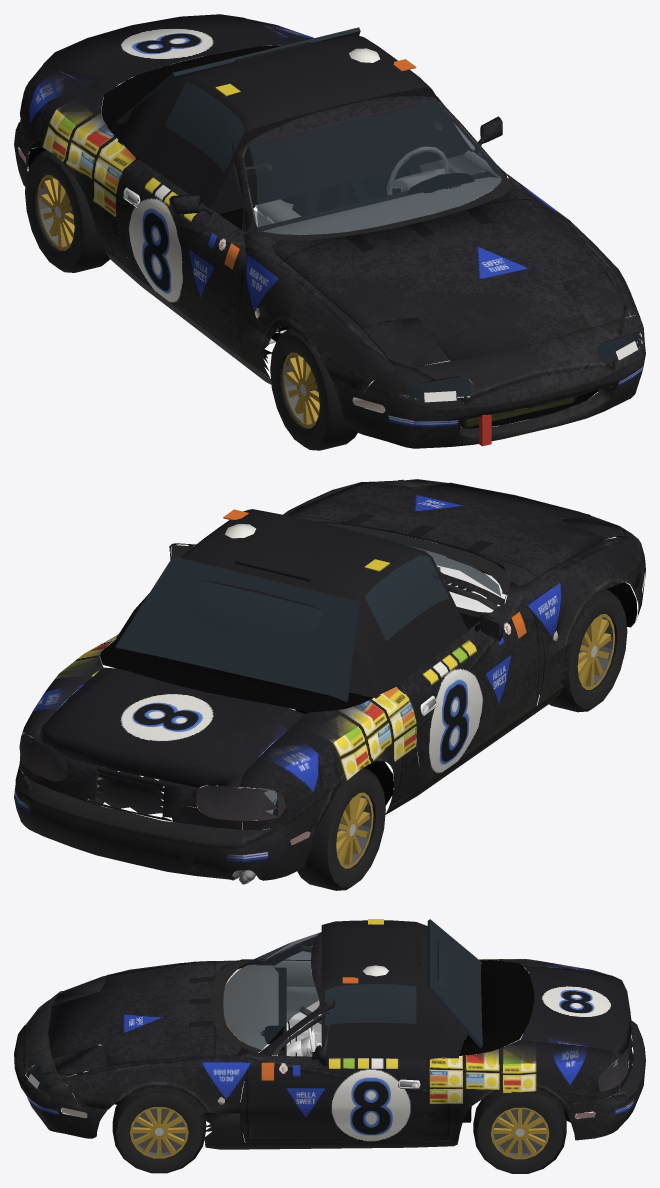
3 renders of one model, top to bottom at view 1: azimuth 30°, elevation 25°; view 2: azimuth 150°, elevation 25°; view 3: azimuth 270°, elevation 25°, orthographic. The views are drawn at different scales.
Visible parts, largest first — view 1: body, wheel_rr, wheel_fr; view 2: body, wheel_rr, wheel_fr; view 3: body, wheel_rl, wheel_fl.
Part boxes in pixels (x1,y1,x2,y2): body: [14, 14, 645, 448]; wheel_rr: [25, 150, 109, 272]; wheel_fr: [270, 328, 363, 450]; body: [14, 479, 645, 884]; wheel_rr: [291, 768, 385, 890]; wheel_fr: [539, 589, 627, 712]; body: [14, 919, 645, 1149]; wheel_rl: [473, 1092, 566, 1173]; wheel_fl: [112, 1092, 205, 1173].
Size of the model in its own units: 1.78 by 1.22 by 3.97.
Materials: 2 (1 with a texture image).
